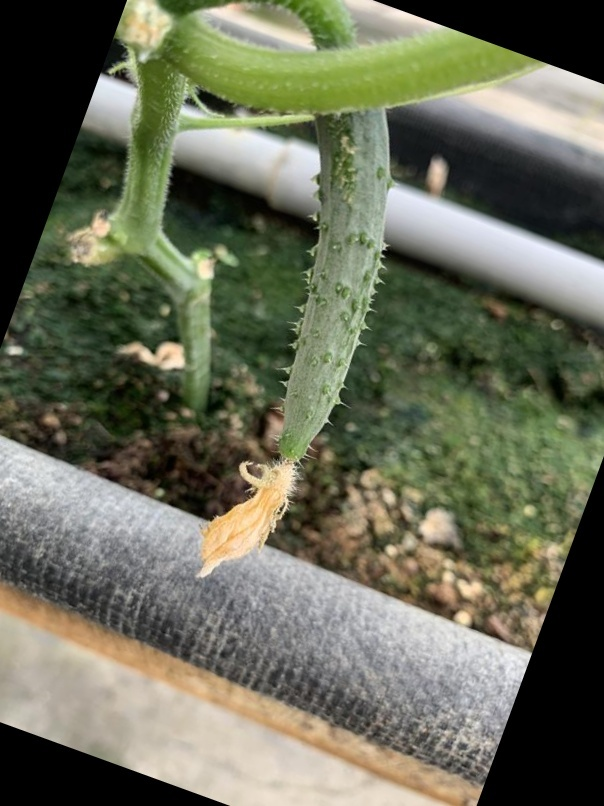bear: (187, 108, 431, 626)
